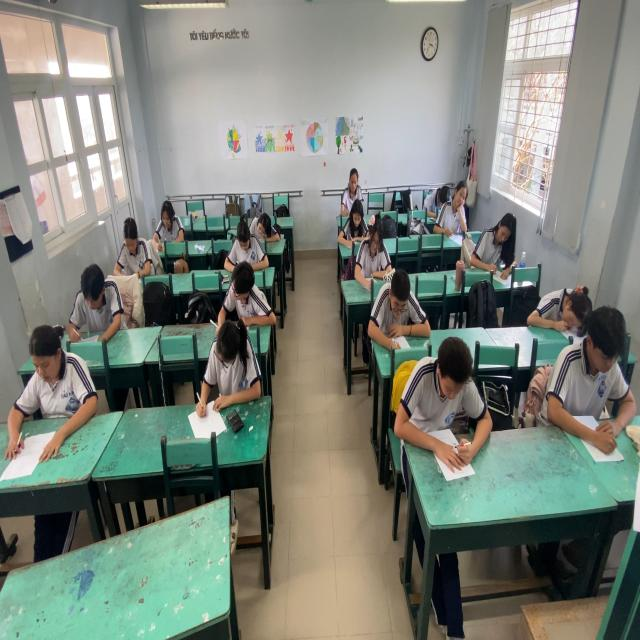cheating: (221, 259, 270, 327)
not_cheating: (562, 296, 634, 465), (414, 324, 479, 474), (15, 316, 85, 444), (205, 313, 259, 408), (373, 258, 418, 350), (537, 266, 591, 342), (76, 262, 121, 346), (477, 200, 519, 278), (113, 216, 153, 284), (357, 214, 392, 282), (440, 176, 471, 242), (228, 215, 262, 271), (150, 193, 184, 248), (246, 203, 282, 254), (341, 194, 367, 246), (421, 168, 448, 212), (338, 161, 363, 206)
